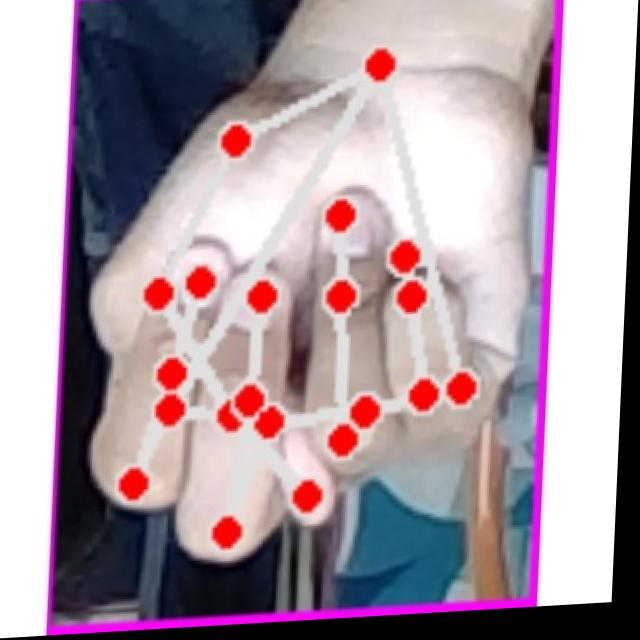N: (80, 28, 541, 581)
